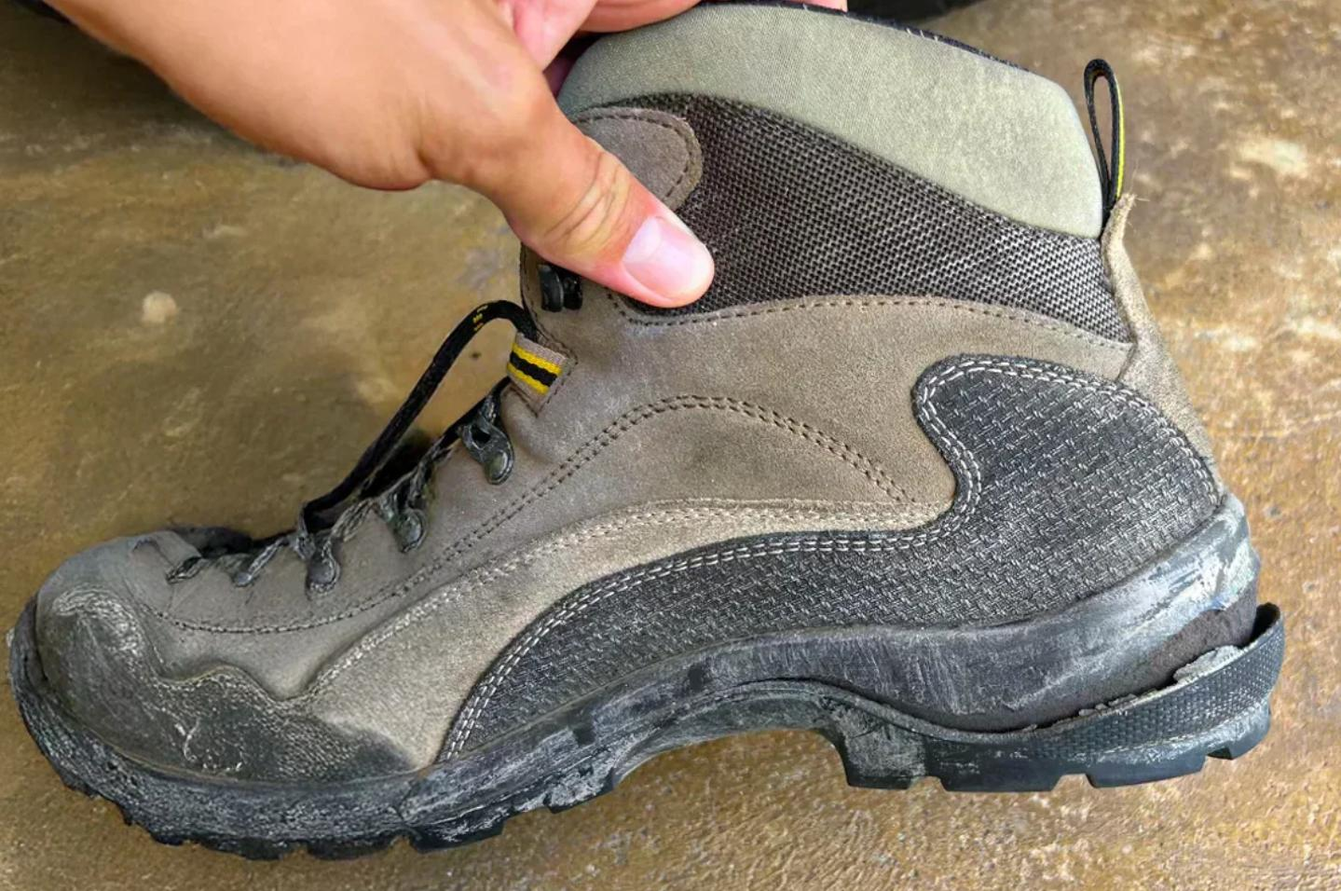bonding: (966, 579, 1275, 764)
